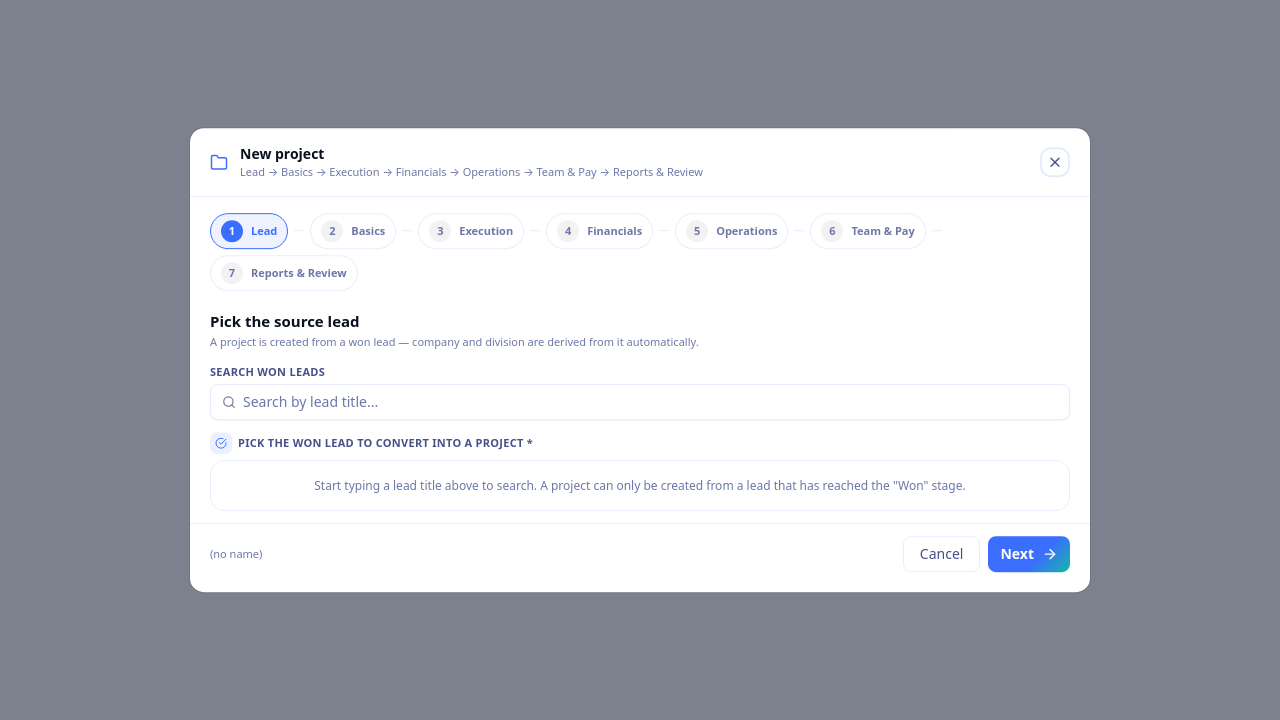
Test case: NewProjectWizard — navigation › advances to Step 1 once a lead is picked
Expected: the text "Pick the source lead" is shown, [210,311,360,331]
Type "Sun Cardio" into the field with placeholder "Search by lead title..." at [640, 402], box [210,384,1070,420]
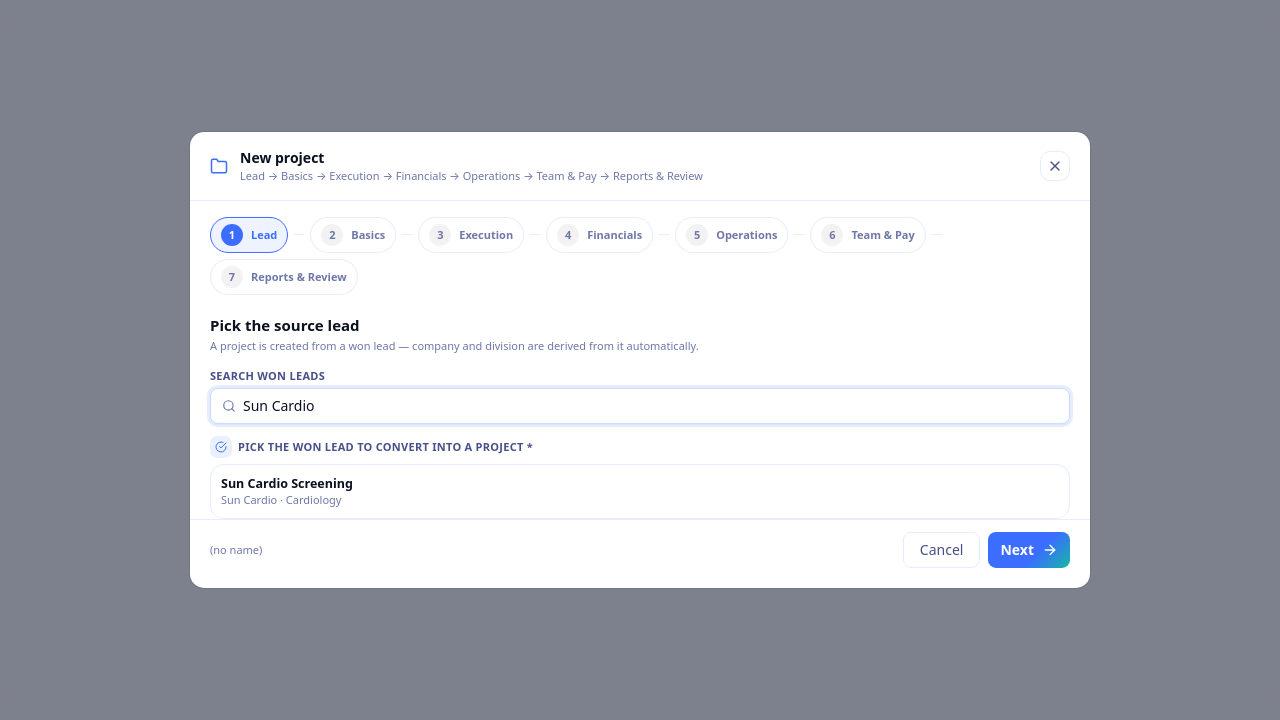
Click the button "Sun Cardio Screening Sun Cardio · Cardiology" at [287, 483], box [210,464,1070,519]
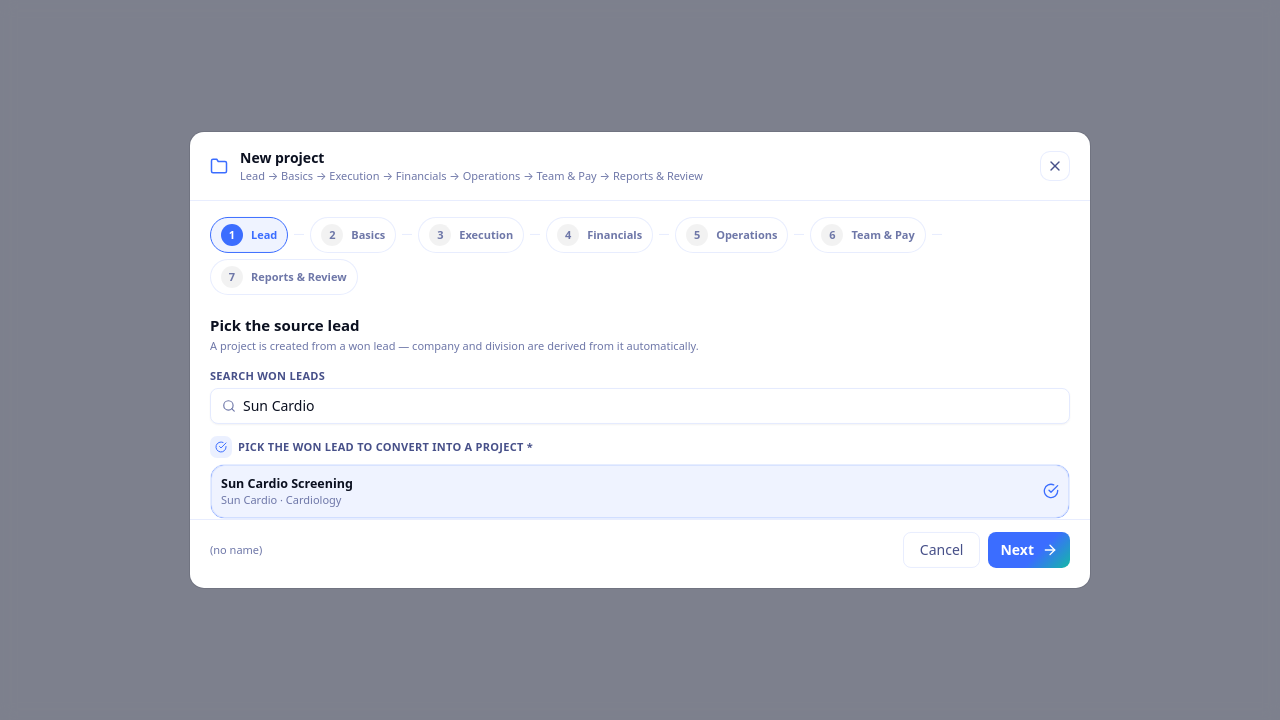
Click the button "Next" at [1029, 550], box [988,532,1070,568]
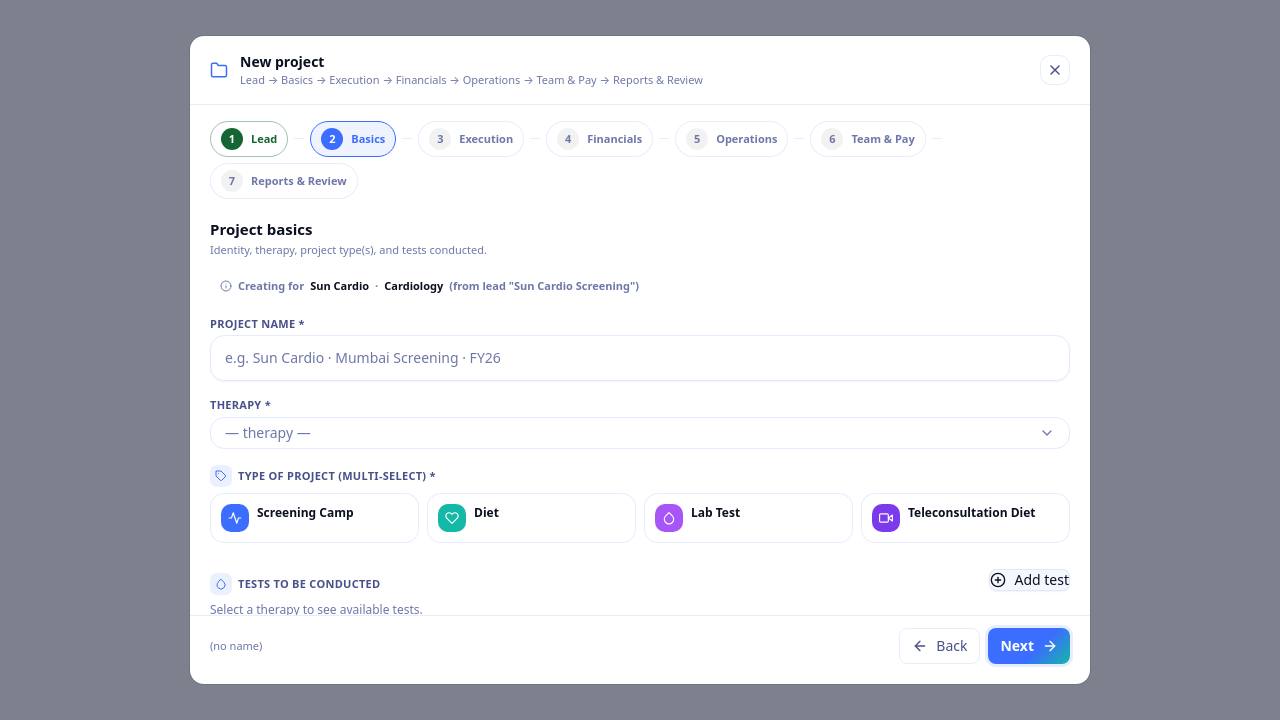
Expected: the text "Project basics" is shown, [210,219,312,239]
